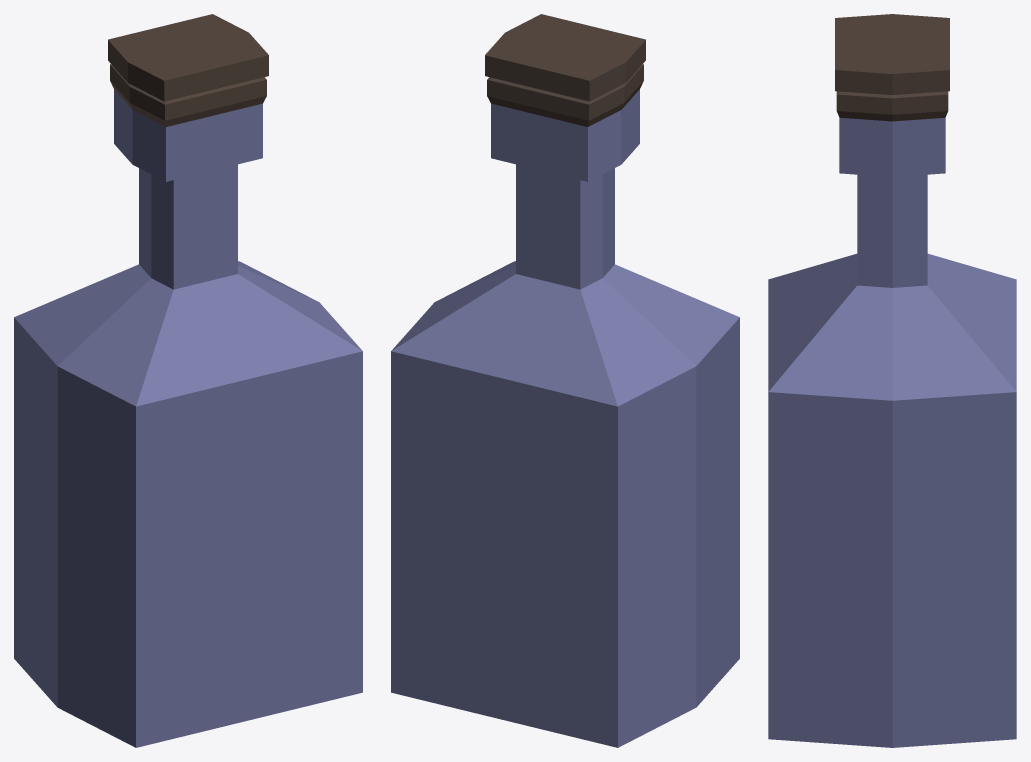
The model's file is Medicine_bottle_3.fbx.
3 renders of one model, left to right at view 1: azimuth 30°, elevation 25°; view 2: azimuth 150°, elevation 25°; view 3: azimuth 270°, elevation 25°, orthographic.
Parts seen in each view (by area): view 1: Medicine_bottle_3; view 2: Medicine_bottle_3; view 3: Medicine_bottle_3.
Boxes of the visible parts, x1,y1,x2,y2 form: Medicine_bottle_3: (14,14,362,747); Medicine_bottle_3: (391,14,739,747); Medicine_bottle_3: (768,14,1016,747).
Bounding box in the file's own units: 19.31 × 15.59 × 44.26.
